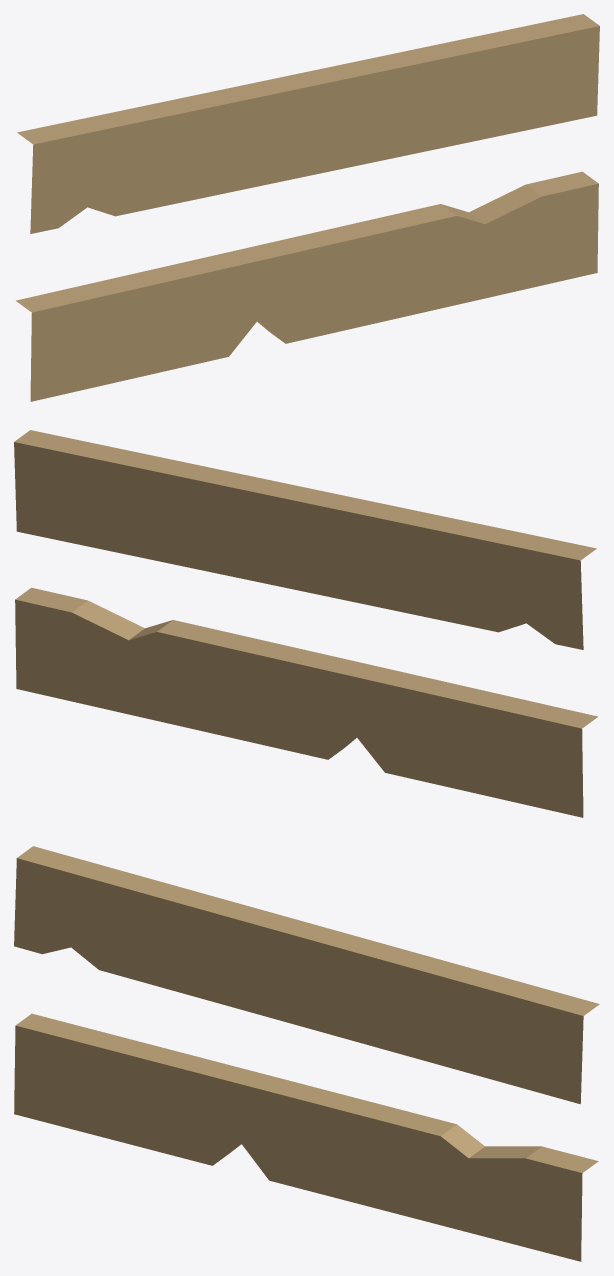
File: Hilly_Prop_Fence_Boards_2.glb
3 renders of one model, top to bottom at view 1: azimuth 30°, elevation 25°; view 2: azimuth 150°, elevation 25°; view 3: azimuth 330°, elevation 25°, orthographic.
Parts seen in each view (by area): view 1: Hilly_Prop_Fence_Boards_2; view 2: Hilly_Prop_Fence_Boards_2; view 3: Hilly_Prop_Fence_Boards_2.
Boxes of the visible parts, left/top/right/bottom form: Hilly_Prop_Fence_Boards_2: left=16, top=14, right=599, bottom=401; Hilly_Prop_Fence_Boards_2: left=14, top=430, right=597, bottom=817; Hilly_Prop_Fence_Boards_2: left=14, top=846, right=599, bottom=1261.
Bounding box in the file's own units: 1 × 0.4484 × 0.05.
